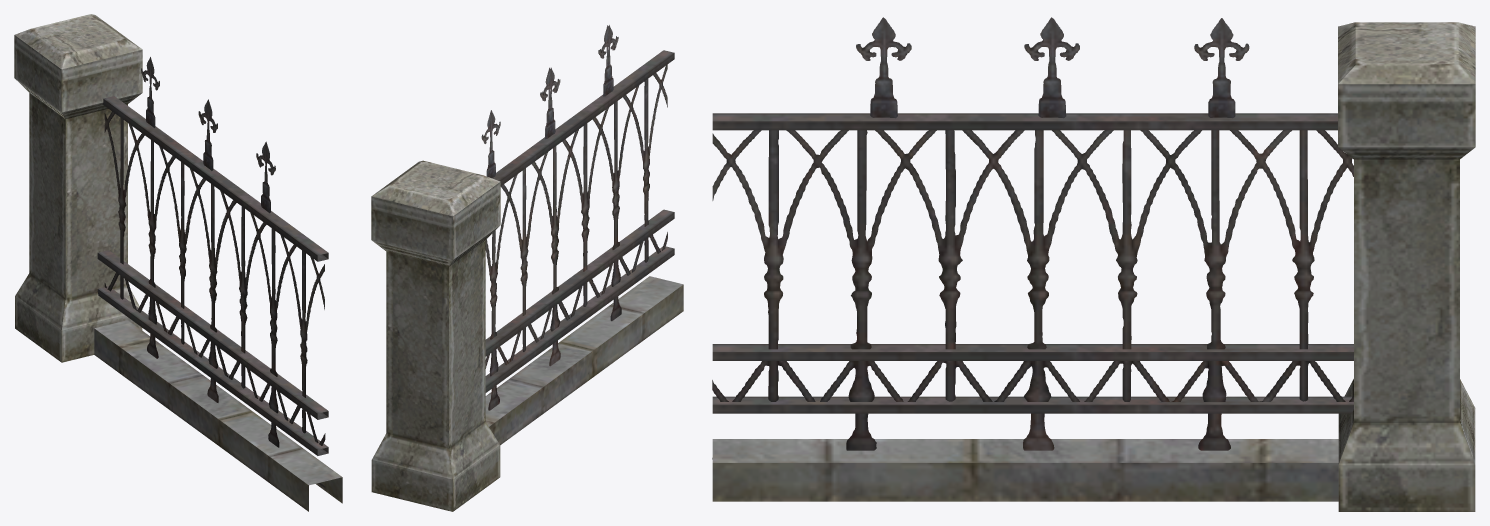
File: bg_lut_lucastle_monument02_sm_sup.FBX
3 views of the same model, side by side, from view 1: azimuth 30°, elevation 25°; view 2: azimuth 150°, elevation 25°; view 3: azimuth 270°, elevation 25° (orthographic). The views are drawn at different scales.
Visible parts, largest first — view 1: bg_lut_lucastle_monument02_sm_sup; view 2: bg_lut_lucastle_monument02_sm_sup; view 3: bg_lut_lucastle_monument02_sm_sup.
Boxes of the visible parts, left/top/right/bottom form: bg_lut_lucastle_monument02_sm_sup: left=14, top=14, right=342, bottom=511; bg_lut_lucastle_monument02_sm_sup: left=371, top=25, right=683, bottom=511; bg_lut_lucastle_monument02_sm_sup: left=712, top=17, right=1475, bottom=511.
Size of the model in its own units: 24.11 by 92.41 by 135.
